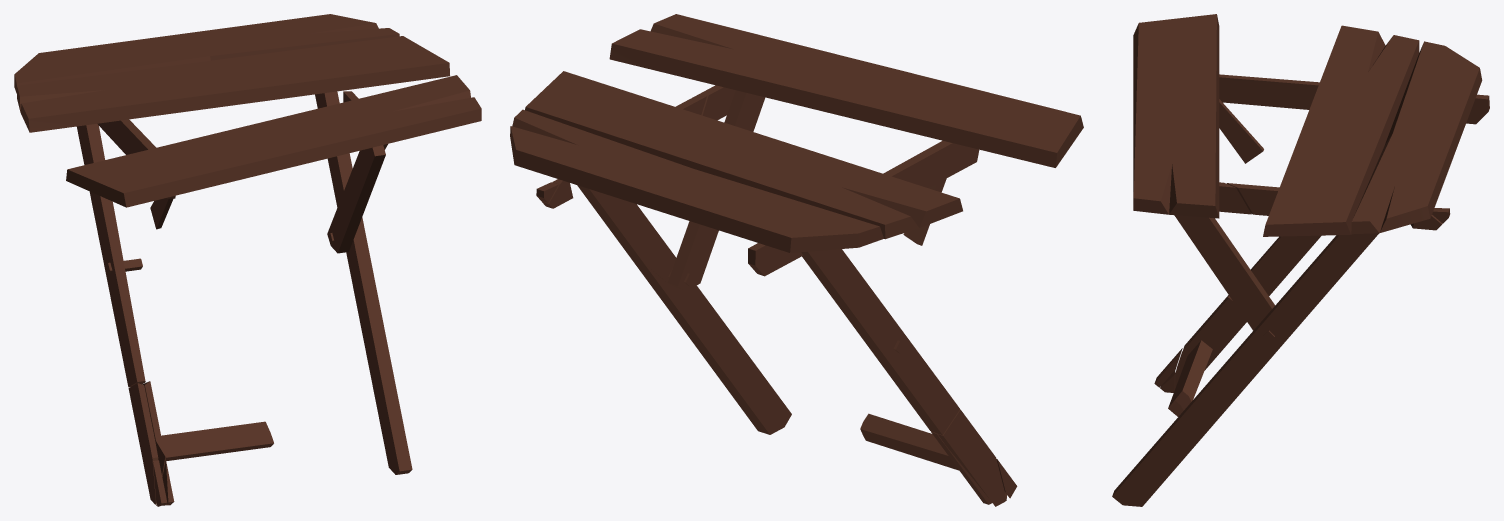
Rendered from SM_Prop_Cafe_Table_Folding_02_cell.001.obj.
The picture shows the model from 3 angles, left to right: view 1: azimuth 30°, elevation 25°; view 2: azimuth 150°, elevation 25°; view 3: azimuth 270°, elevation 25°; orthographic projection. The views are drawn at different scales.
Parts seen in each view (by area): view 1: SM_Prop_Cafe_Table_Folding_02_cell.001_0; view 2: SM_Prop_Cafe_Table_Folding_02_cell.001_0; view 3: SM_Prop_Cafe_Table_Folding_02_cell.001_0.
Part boxes in pixels (x1,y1,x2,y2): SM_Prop_Cafe_Table_Folding_02_cell.001_0: [14, 14, 481, 506]; SM_Prop_Cafe_Table_Folding_02_cell.001_0: [510, 14, 1083, 506]; SM_Prop_Cafe_Table_Folding_02_cell.001_0: [1112, 14, 1489, 506].
Size of the model in its own units: 0.8988 by 0.7231 by 0.7156.
Materials: 1 (1 with a texture image).
